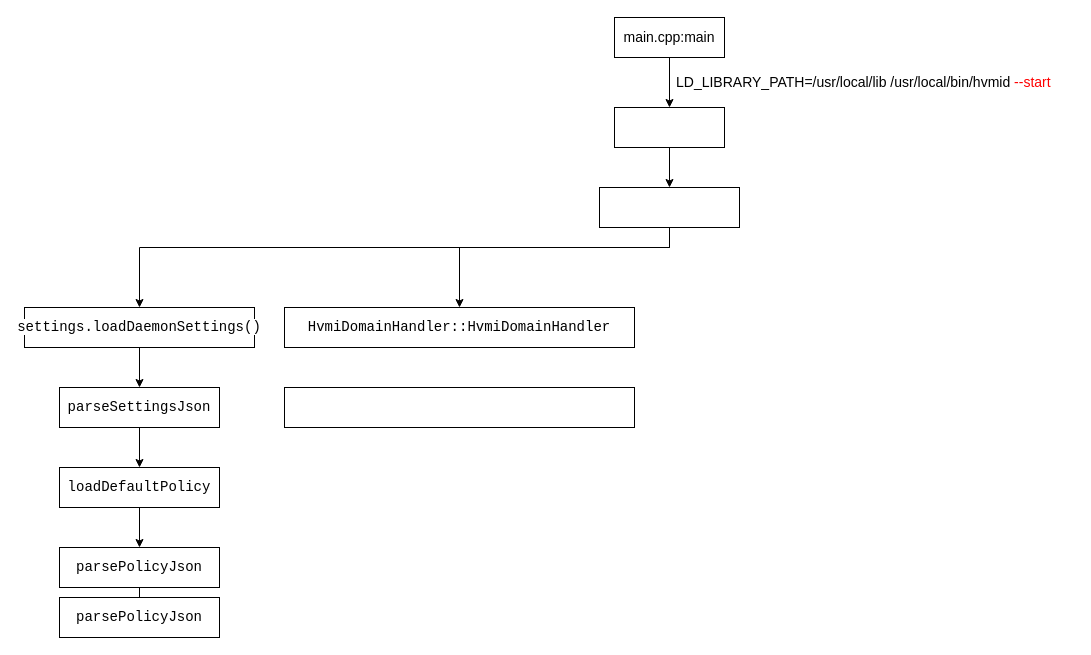
Some shapes in this 1091 by 655 pixel diagram are drawn without their labels. The box of each missing label's shape, as (x1, y1, x2, y2) in pixels:
HvmiDomainHandler::startSignalThread: (284, 386, 634, 428)
main.cpp:do_work(): (598, 186, 740, 228)
main.cpp:start(): (614, 106, 724, 148)
